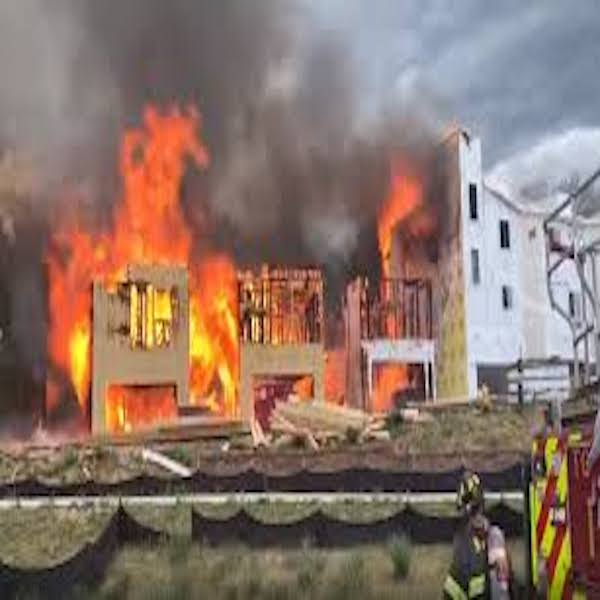fire: (107, 122, 233, 273), (19, 228, 92, 422), (368, 146, 441, 272), (191, 275, 241, 415), (250, 282, 311, 344), (131, 285, 173, 350), (107, 389, 176, 423), (368, 362, 409, 403)
